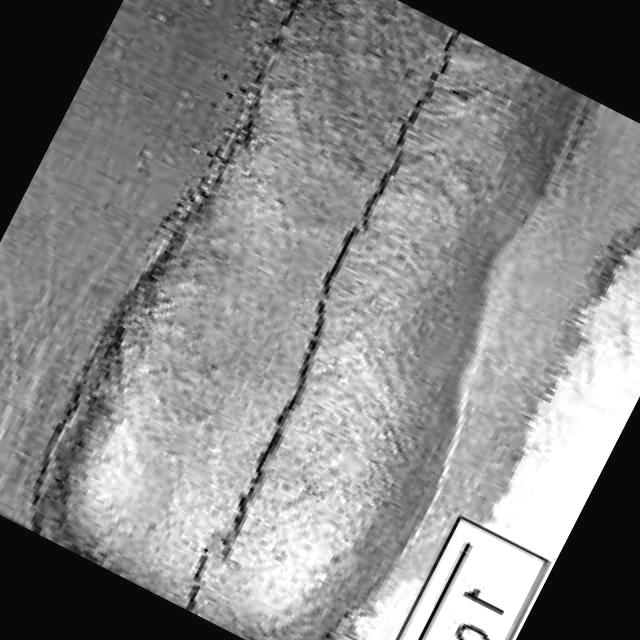defect: (176, 30, 465, 614)
